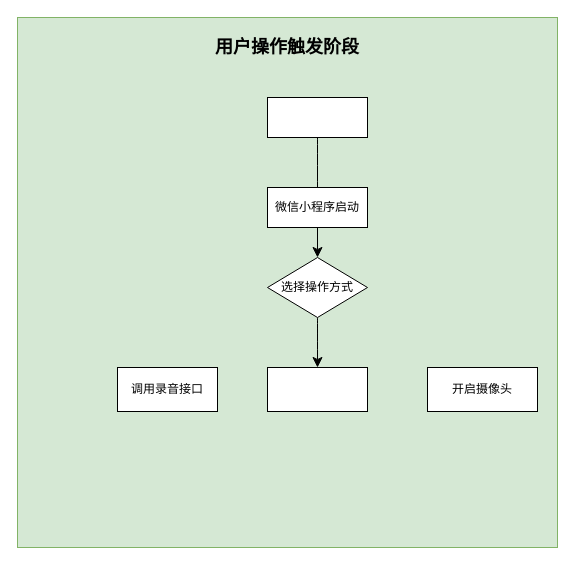
The diagram is 575 pixels wide and 565 high, and some of its shapes have lost their labels. Each missing label, with the box of its shape:
文本框输入: (266, 366, 368, 412)
用户扫描二维码: (266, 96, 368, 138)
